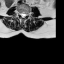CCS_normal: (22, 10, 24, 20)
LFS_normal: (26, 10, 28, 18)
LLS_normal: (24, 11, 26, 18)
RFS_normal: (18, 9, 20, 17)
RLS_normal: (20, 10, 22, 18)
